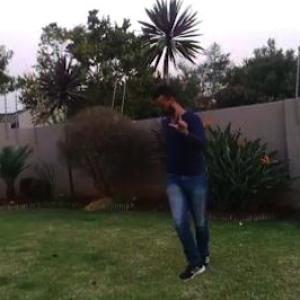land_hand: (168, 105, 191, 137)
